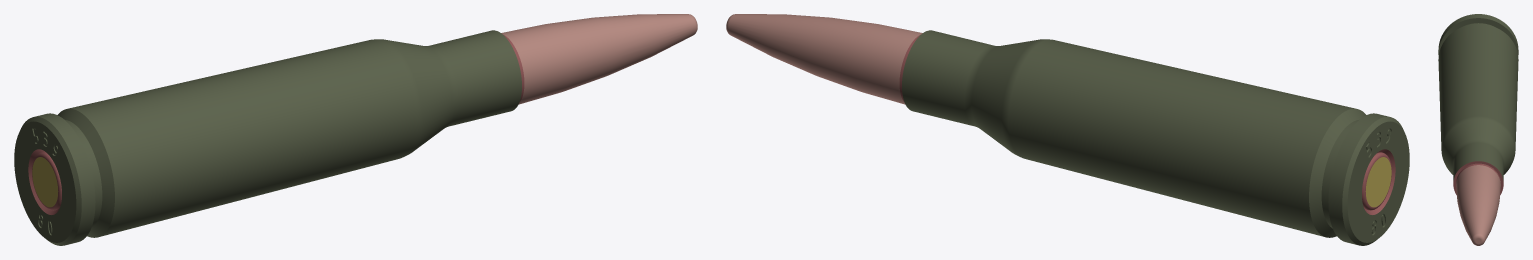
The picture shows the model from 3 angles, left to right: view 1: azimuth 30°, elevation 25°; view 2: azimuth 150°, elevation 25°; view 3: azimuth 270°, elevation 25°; orthographic projection. The views are drawn at different scales.
Visible parts, largest first — view 1: ??????, ???????? ???????????????, ??????? ????????; view 2: ??????, ???????? ???????????????, ??????? ????????; view 3: ??????, ???????? ???????????????.
Part boxes in pixels (left/top/right/bottom): ??????: left=14, top=30, right=521, bottom=245; ???????? ???????????????: left=501, top=14, right=697, bottom=104; ??????? ????????: left=32, top=152, right=61, bottom=210; ??????: left=902, top=30, right=1409, bottom=245; ???????? ???????????????: left=726, top=14, right=922, bottom=104; ??????? ????????: left=1362, top=152, right=1391, bottom=210; ??????: left=1438, top=14, right=1518, bottom=195; ???????? ???????????????: left=1456, top=163, right=1500, bottom=245.
Bounding box in the file's own units: 5.67 × 1 × 1.
